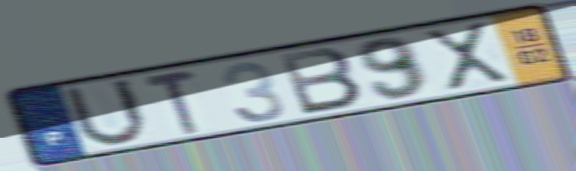3: (220, 59, 286, 124)
9: (353, 34, 435, 102)
B: (275, 45, 367, 118)
T: (139, 68, 204, 137)
U: (59, 76, 152, 150)
X: (419, 19, 515, 94)
